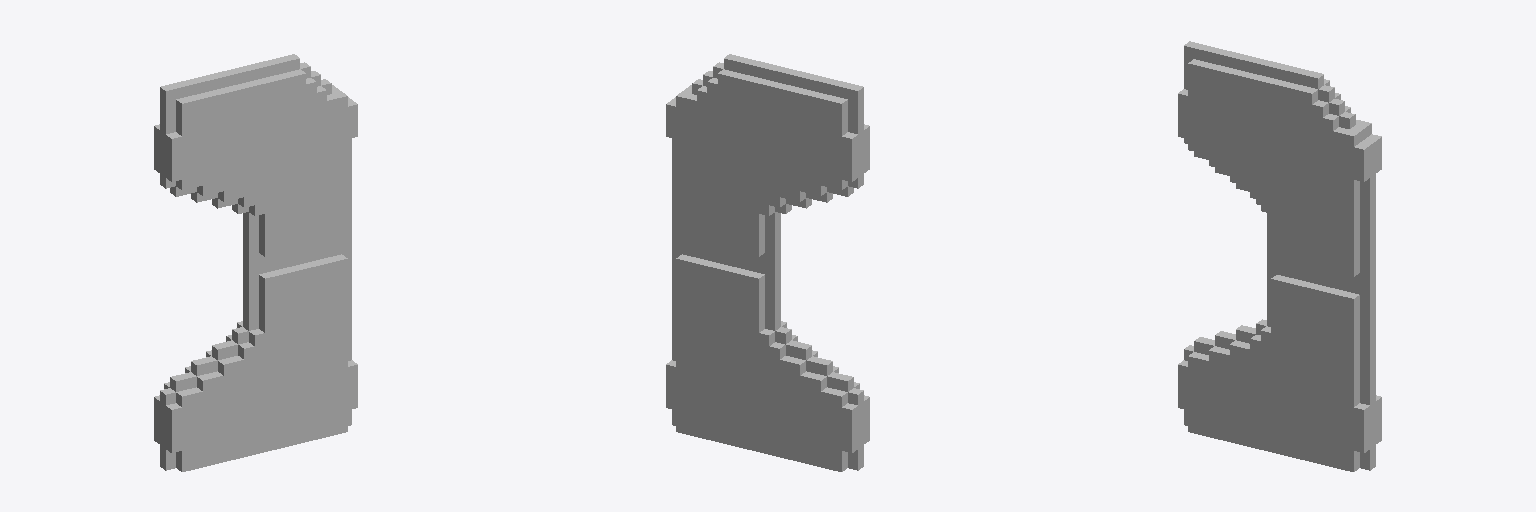
The model's file is Architeture1-10.obj.
3 views of the same model, side by side, from view 1: azimuth 30°, elevation 25°; view 2: azimuth 150°, elevation 25°; view 3: azimuth 330°, elevation 25° (orthographic).
Parts seen in each view (by area): view 1: object 1; view 2: object 1; view 3: object 1.
Boxes of the visible parts, x1=… form: object 1: x1=154, y1=54, x2=357, y2=471; object 1: x1=666, y1=54, x2=869, y2=471; object 1: x1=1178, y1=41, x2=1381, y2=471.
Size of the model in its own units: 1.8 by 3.5 by 0.3.